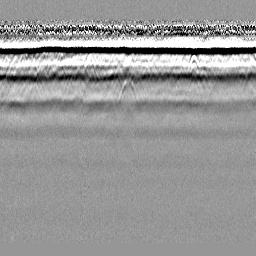cavity: (117, 75, 138, 106)
